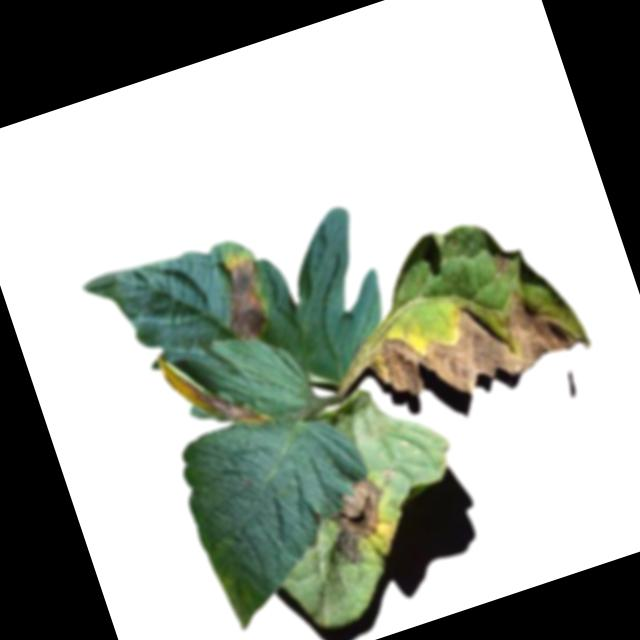Early_blight: (360, 268, 603, 420), (163, 337, 266, 442), (308, 473, 397, 571), (209, 249, 280, 343), (487, 249, 515, 277)
